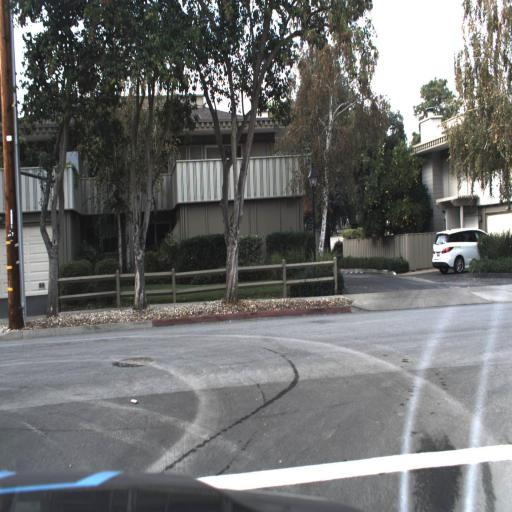car: (429, 225, 491, 275), (431, 228, 495, 271)
